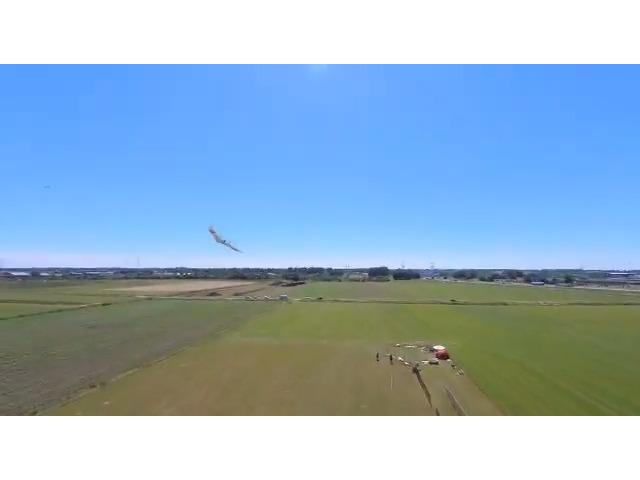Anti-Drone: (202, 220, 250, 258)
